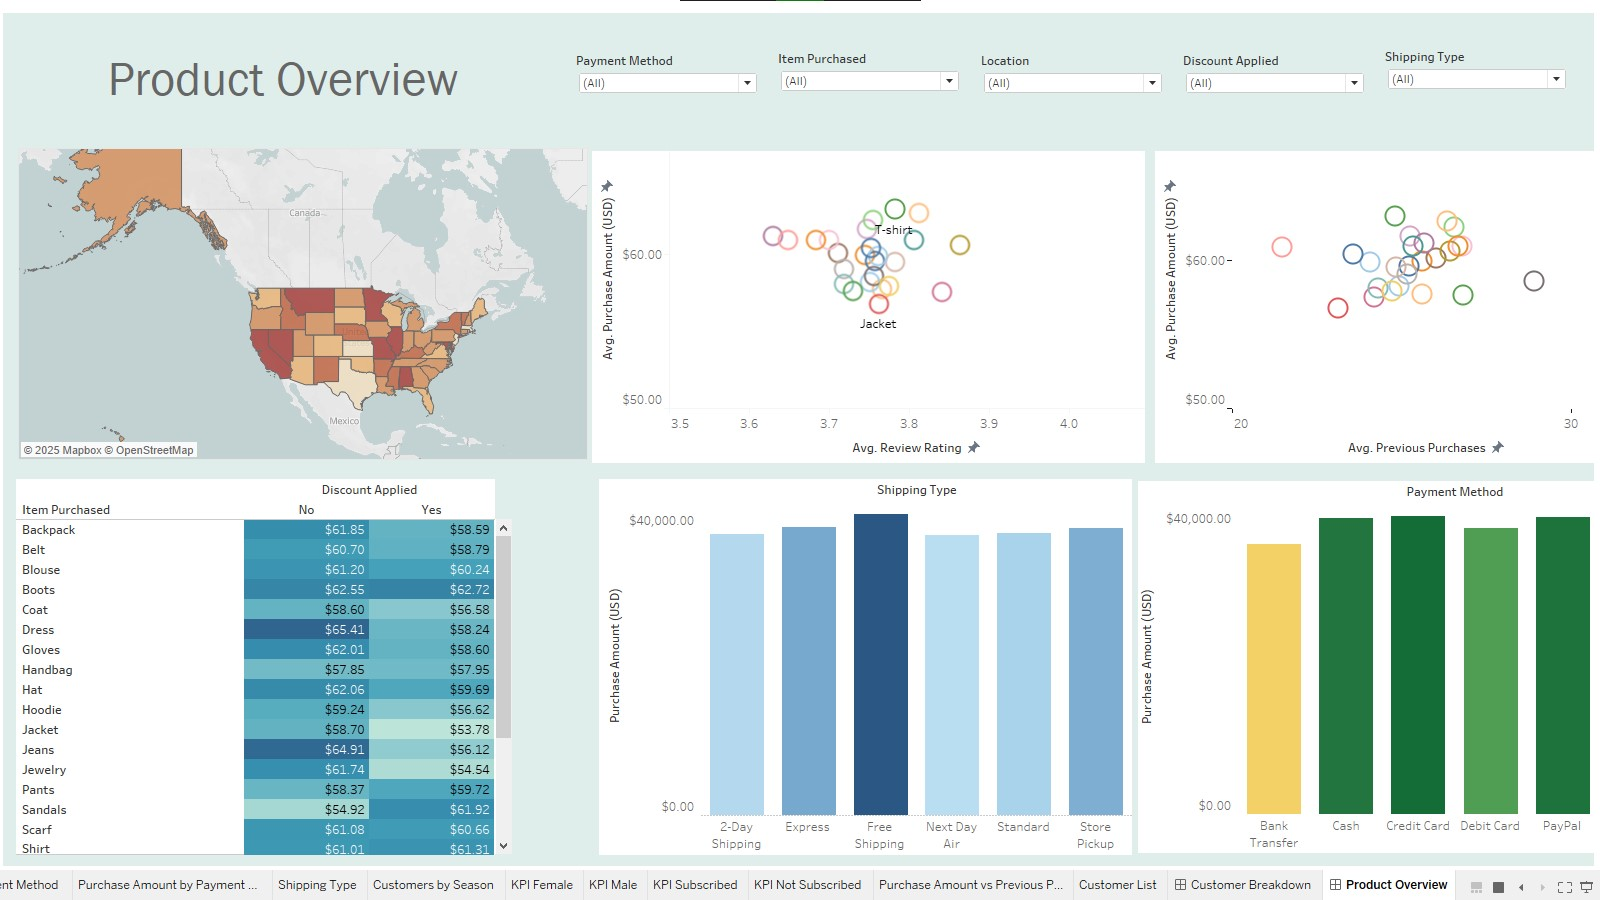

The dashboard page shown, as its layout file describes it:
{"tool":"tableau","page":{"name":"Product Overview","canvas":[1000,1000],"units":"permille","ordinal":1},"visuals":[{"type":"text","box":[7.9,31.8,337.7,117.4]},{"type":"filter","title":"Shipping Type","param":"[federated.12ewj160rvrcry10kris80x3uvd5].[none:Shipping Type:nk]","box":[865.4,55.2,115.2,78.7]},{"type":"filter","title":"Purchases After Discounts","param":"[federated.12ewj160rvrcry10kris80x3uvd5].[none:Item Purchased:nk]","box":[486,58,115.2,78.7]},{"type":"filter","title":"Purchase Amount by Payment Method","param":"[federated.12ewj160rvrcry10kris80x3uvd5].[none:Payment Method:nk]","box":[360,59.4,115.2,78.7]},{"type":"filter","title":"Purchases By Location","param":"[federated.12ewj160rvrcry10kris80x3uvd5].[none:Location:nk]","box":[613.4,59.4,115.2,78.7]},{"type":"filter","title":"Purchases After Discounts","param":"[federated.12ewj160rvrcry10kris80x3uvd5].[none:Discount Applied:nk]","box":[739.4,59.4,115.2,78.7]},{"type":"worksheet","title":"Purchases By Location","mark":"Multipolygon","box":[11.5,169.9,356.4,359.1]},{"type":"worksheet","title":"Review Rating vs Purchase Amount","mark":"Automatic","rows":["Purchase Amount (USD)"],"cols":["Review Rating"],"box":[370.1,174,345.6,359.1]},{"type":"worksheet","title":"Purchase Amount vs Previous Purchases","mark":"Automatic","rows":["Purchase Amount (USD)"],"cols":["Previous Purchases"],"box":[722.1,174,279.3,359.1]},{"type":"worksheet","title":"Purchases After Discounts","mark":"Square","rows":["Item Purchased"],"cols":["Discount Applied"],"box":[10.1,551.1,357.1,432.3]},{"type":"worksheet","title":"Shipping Type","mark":"Automatic","rows":["Purchase Amount (USD)"],"cols":["Shipping Type"],"box":[374.4,551.1,333.3,432.3]}]}

Visuals, with their boxes on the dashboard's canvas, which has no fixed pixel size, in thousandths of its width and height (x1, y1, x2, y2). These are canvas units, not pixel positions in the 1600x900 screenshot, which may show the page scaled, cropped or inside an application window:
text: 8 32 346 149
"Shipping Type" filter: 865 55 981 134
"Purchases After Discounts" filter: 486 58 601 137
"Purchase Amount by Payment Method" filter: 360 59 475 138
"Purchases By Location" filter: 613 59 729 138
"Purchases After Discounts" filter: 739 59 855 138
"Purchases By Location" worksheet (Multipolygon marks): 12 170 368 529
"Review Rating vs Purchase Amount" worksheet: 370 174 716 533
"Purchase Amount vs Previous Purchases" worksheet: 722 174 1001 533
"Purchases After Discounts" worksheet (Square marks): 10 551 367 983
"Shipping Type" worksheet: 374 551 708 983
